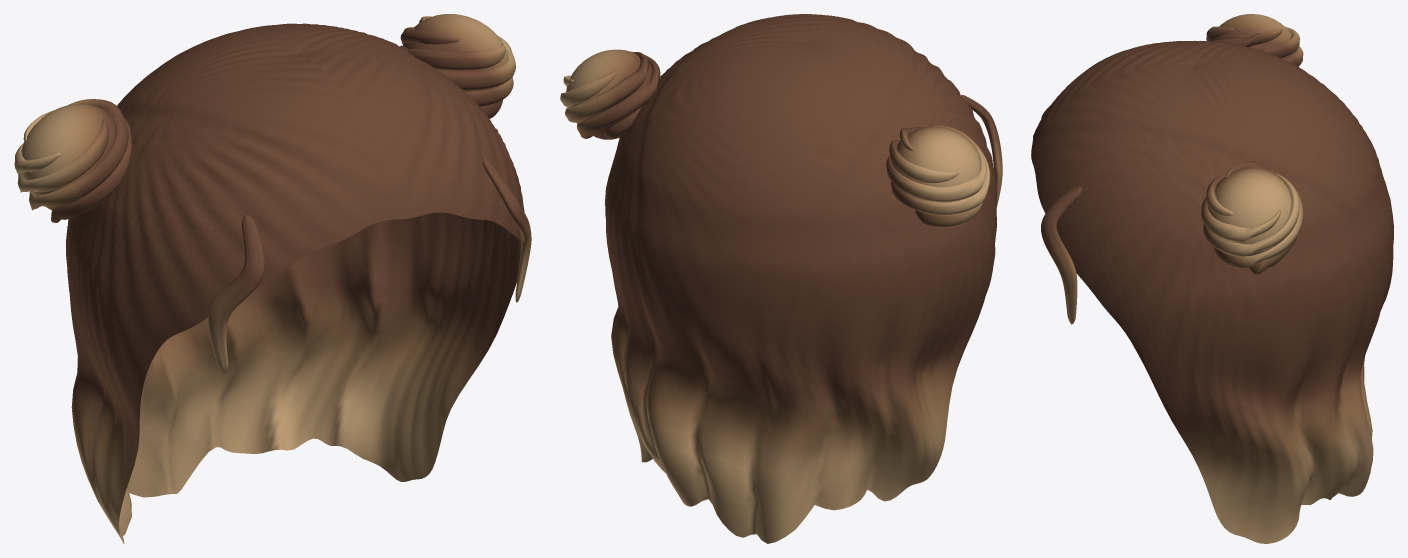
The model's file is space-buns-headband-ombre.glb.
3 renders of one model, left to right at view 1: azimuth 30°, elevation 25°; view 2: azimuth 150°, elevation 25°; view 3: azimuth 270°, elevation 25°, orthographic. The views are drawn at different scales.
Visible parts, largest first — view 1: 226 hair / Hair / chestnut226; view 2: 226 hair / Hair / chestnut226; view 3: 226 hair / Hair / chestnut226.
Part boxes in pixels (x1,y1,x2,y2): 226 hair / Hair / chestnut226: [14, 14, 531, 543]; 226 hair / Hair / chestnut226: [560, 14, 1002, 543]; 226 hair / Hair / chestnut226: [1031, 14, 1393, 543].
Size of the model in its own units: 0.977 by 0.965 by 0.7316.
Materials: 1 (1 with a texture image).
